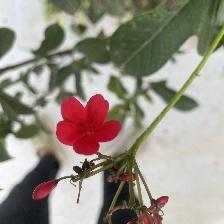jatropha: (57, 92, 121, 159)
